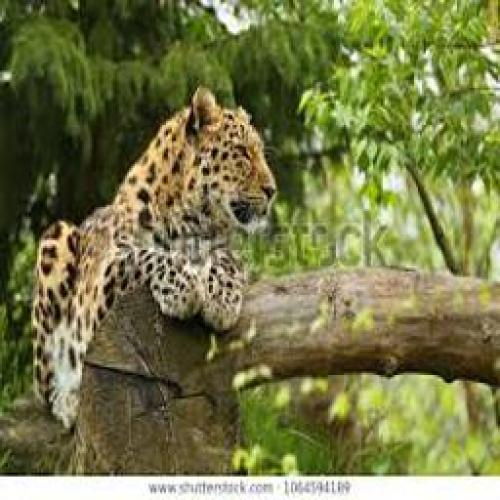amur_leopard-endangered: (30, 86, 278, 428)
